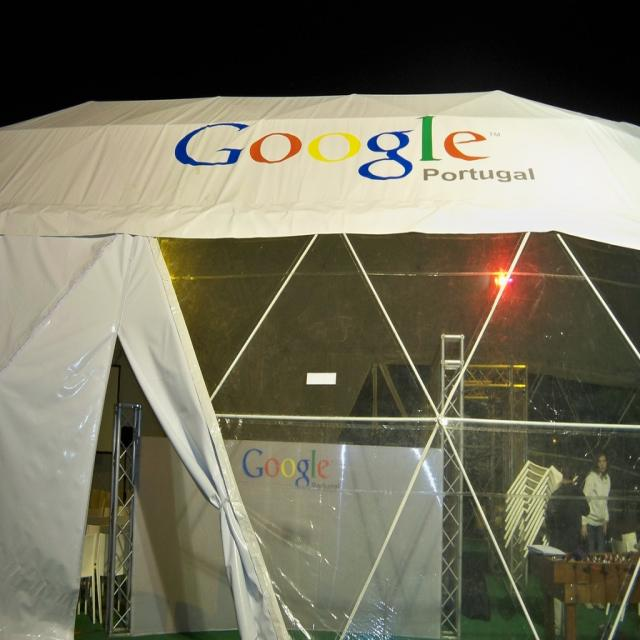google: (173, 109, 497, 190), (240, 446, 336, 489)
